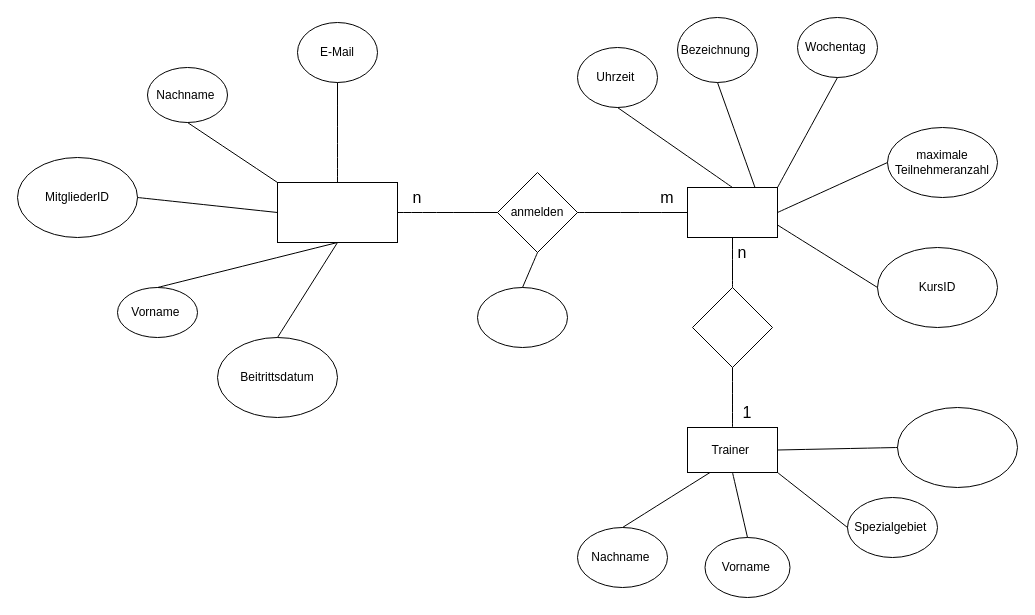
This 1035x615 diagram has some shape labels left out. The centre of each missing label's shape, as x and y in pixels:
"Anmeldedatum" goes at pixel 522 317.
"Kurs" goes at pixel 732 212.
"leitet" goes at pixel 732 327.
"Mitglieder" goes at pixel 337 212.
"TrainerID" goes at pixel 957 447.
